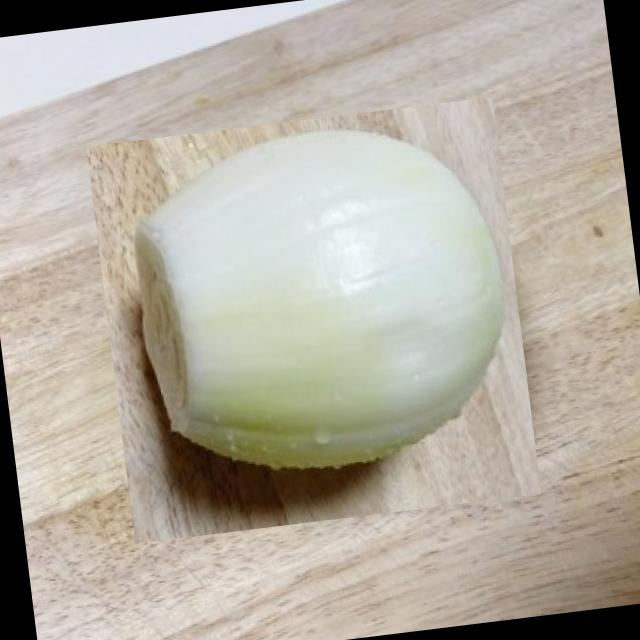Onion: (88, 95, 538, 546)
